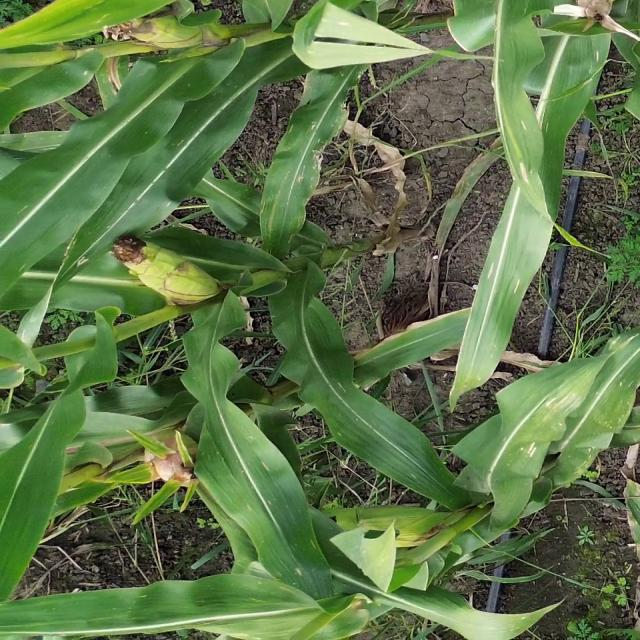southern-leaf-blight: (228, 446, 335, 612), (509, 364, 623, 486), (265, 91, 349, 216), (160, 75, 252, 167)
